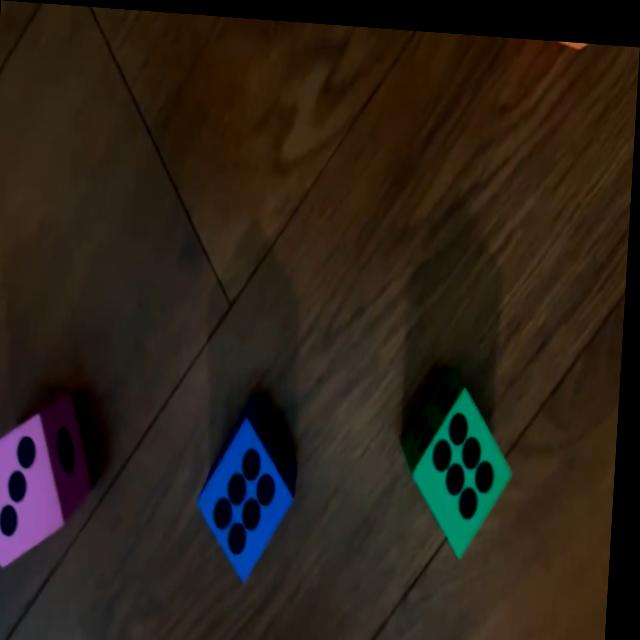cube: (401, 362, 522, 554), (199, 401, 309, 585)
